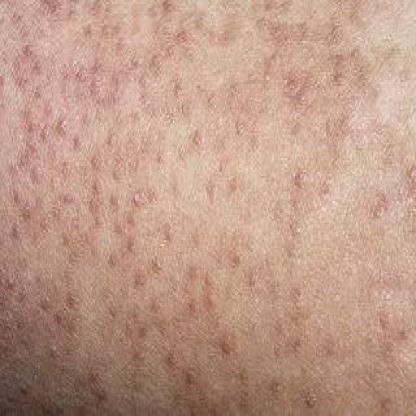Chicken Skin: (2, 0, 414, 416)
